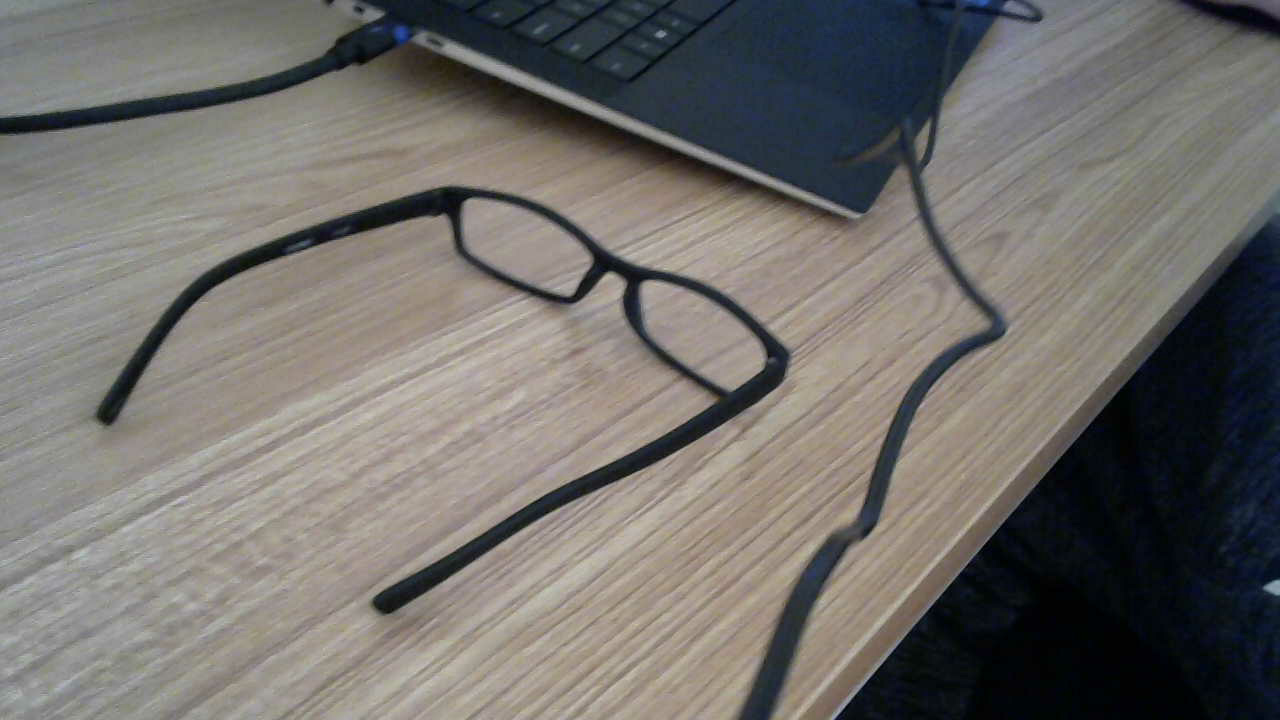Glasses: (442, 196, 791, 418)
